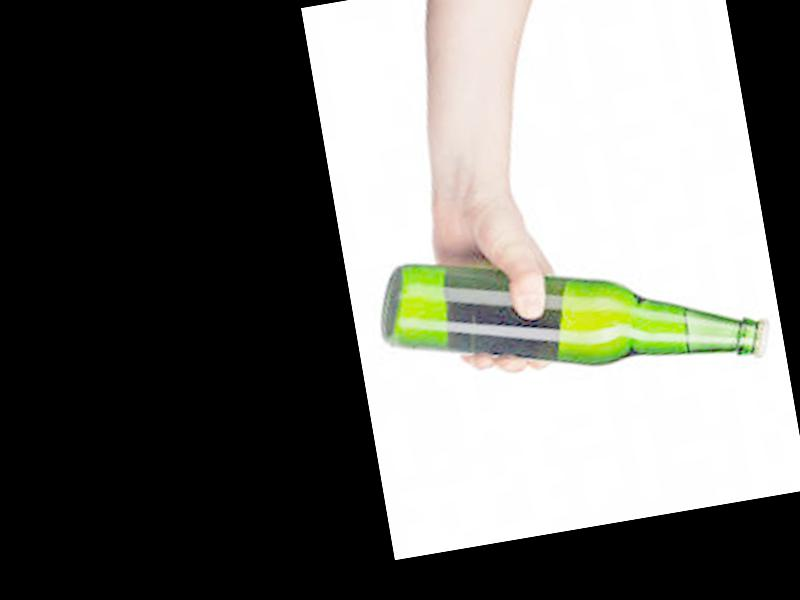Beer: (370, 206, 774, 419)
